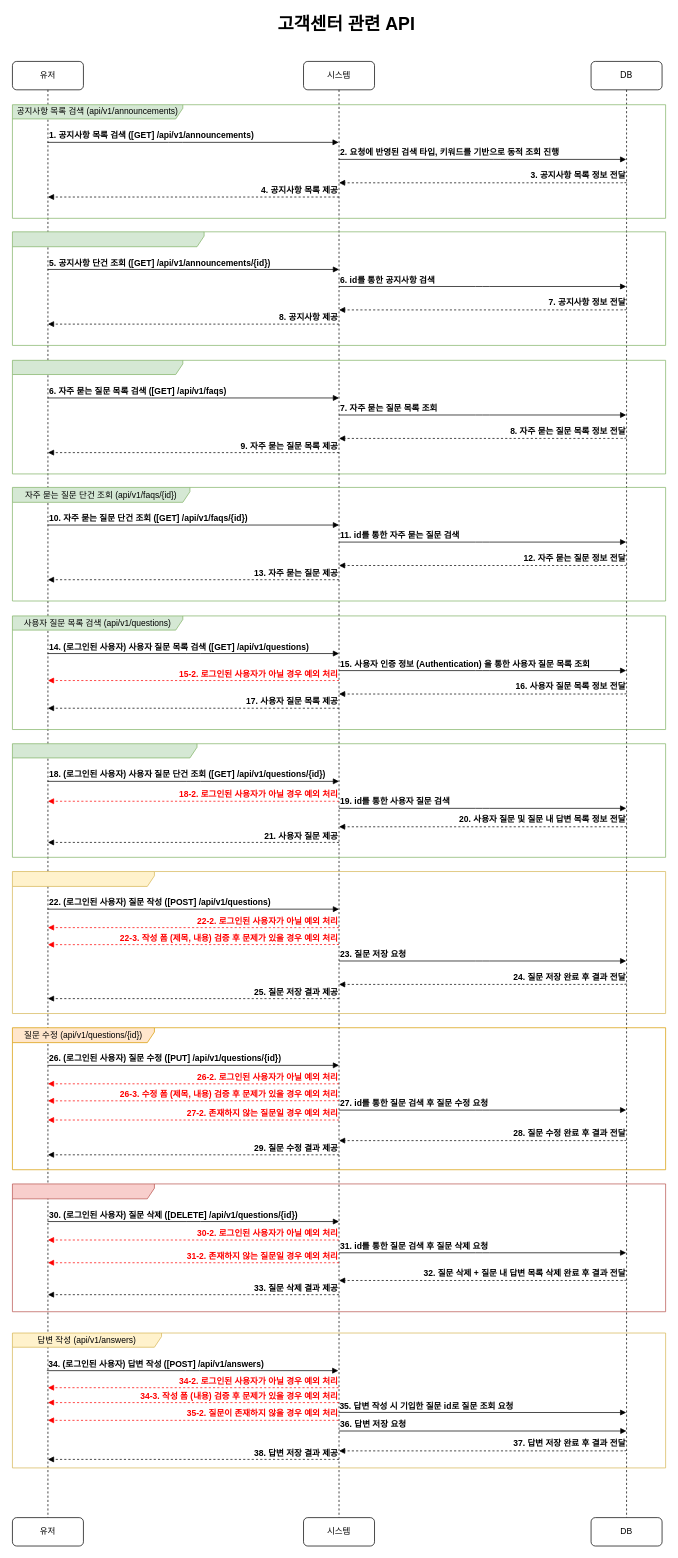
The diagram is 678 pixels wide and 1558 high, and some of its shapes have lost their labels. The shapes that lost their labels are listed below. From the top down, each one's centre as x and y in pixels, then its label:
At (339,288): "공지사항 단건 조회 (api/v1/announcements/{id})".
At (339,417): "자주 묻는 질문 목록 검색 (api/v1/faqs)".
At (339,800): "사용자 질문 단건 조회 (api/v1/questions/{id})".
At (339,942): "질문 작성 (api/v1/questions)".
At (339,1247): "질문 삭제 (api/v1/questions/{id})".
